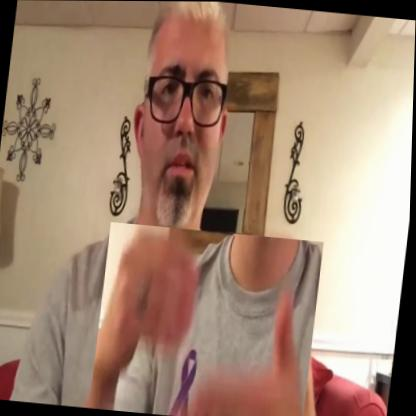Expensive: (91, 222, 325, 416)
